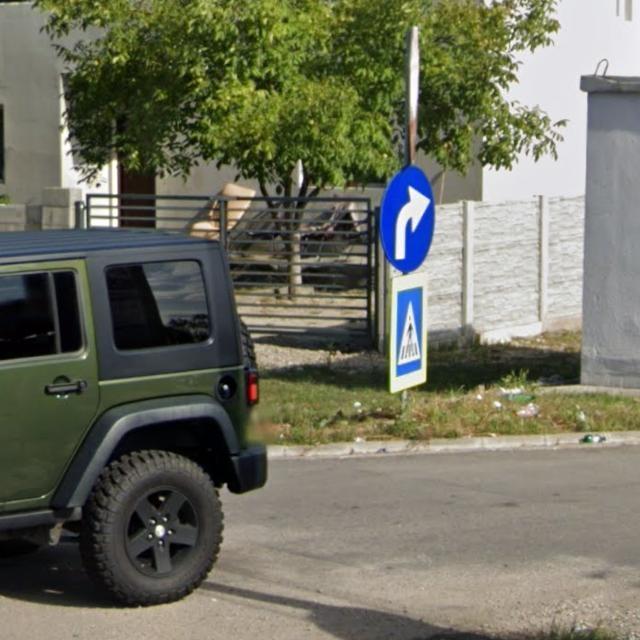info_crosswalk: (388, 282, 428, 394)
